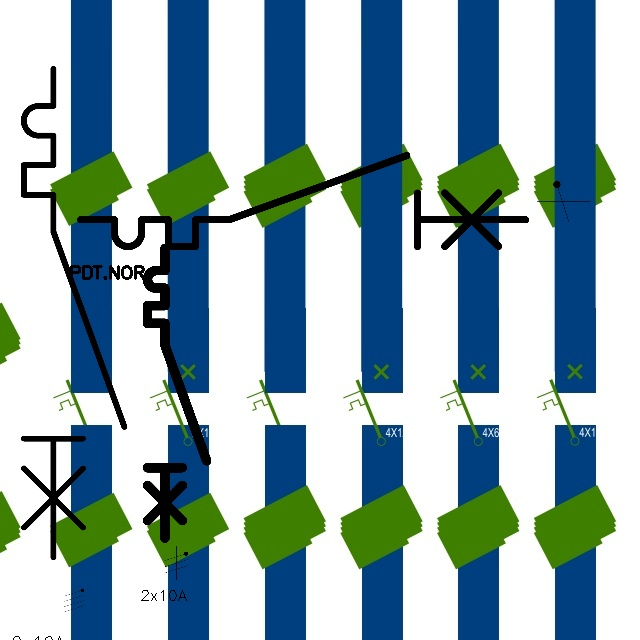interruptor_termomagnetico: (11, 56, 137, 570), (69, 144, 537, 258), (140, 241, 214, 546)
